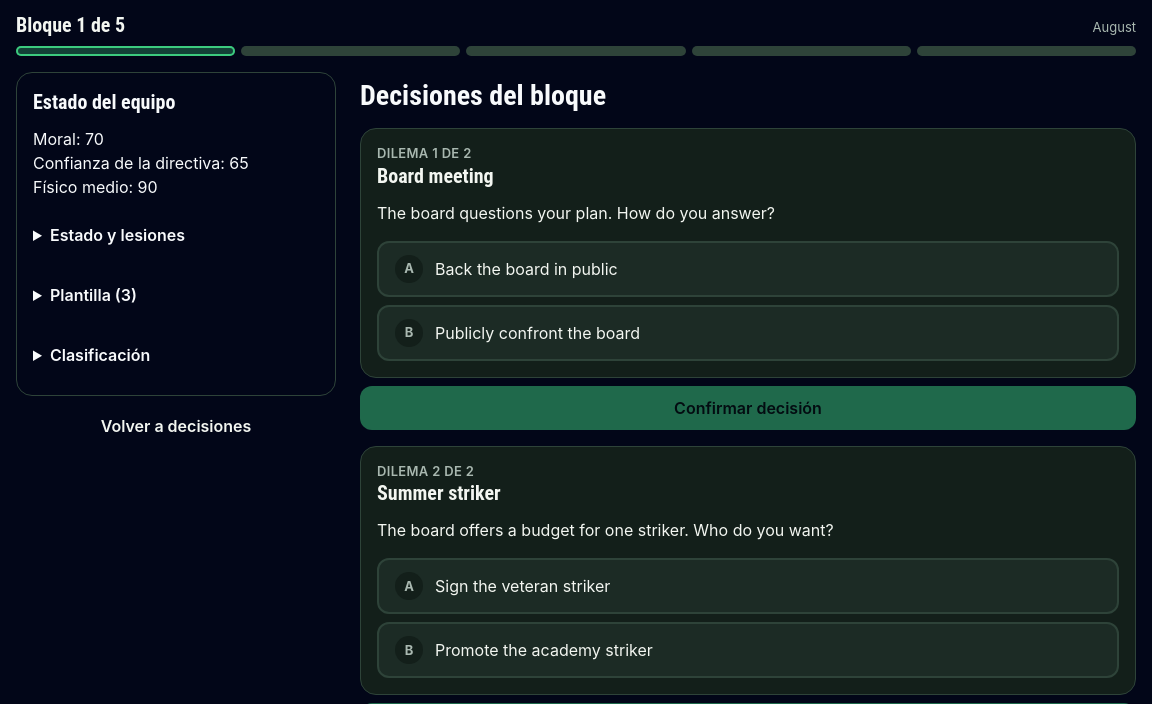
RunLoop › retries only the uncertain decision with the same Idempotency-Key and preserves earlier confirmations
Expected: the heading "Board meeting" is shown, [377,164,494,188]
Click the button "A Back the board in public": (526, 269) [377,241,1119,297]
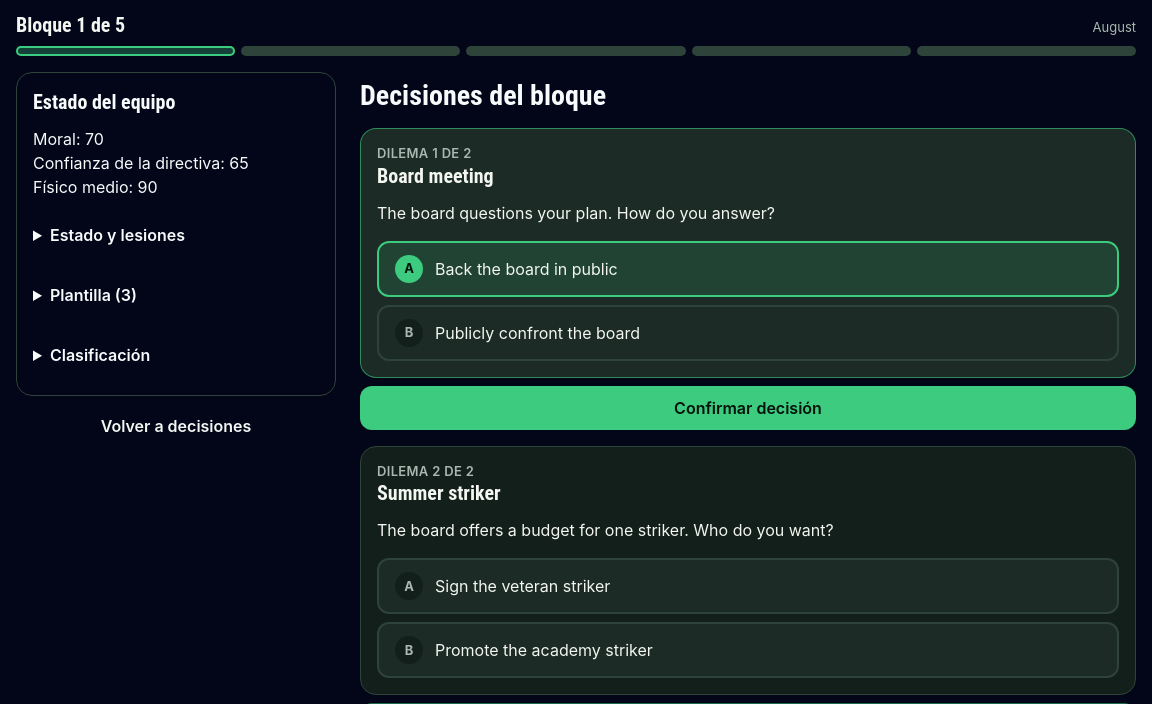
Click the button with aria-label "Confirmar: Board meeting": (748, 408) [360,386,1136,430]
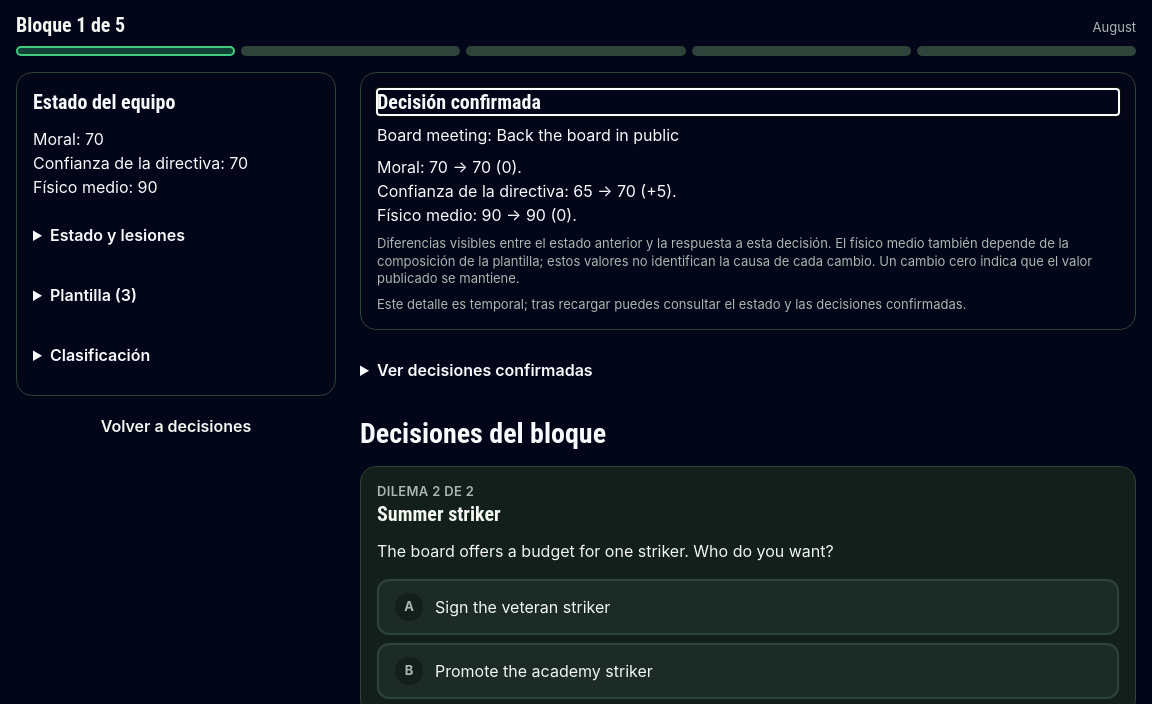
Expected: the heading "Decisión confirmada" is shown, [377,90,541,114]
Click the button "A Sign the veteran striker": (523, 607) [377,579,1119,635]
(page scrolled)
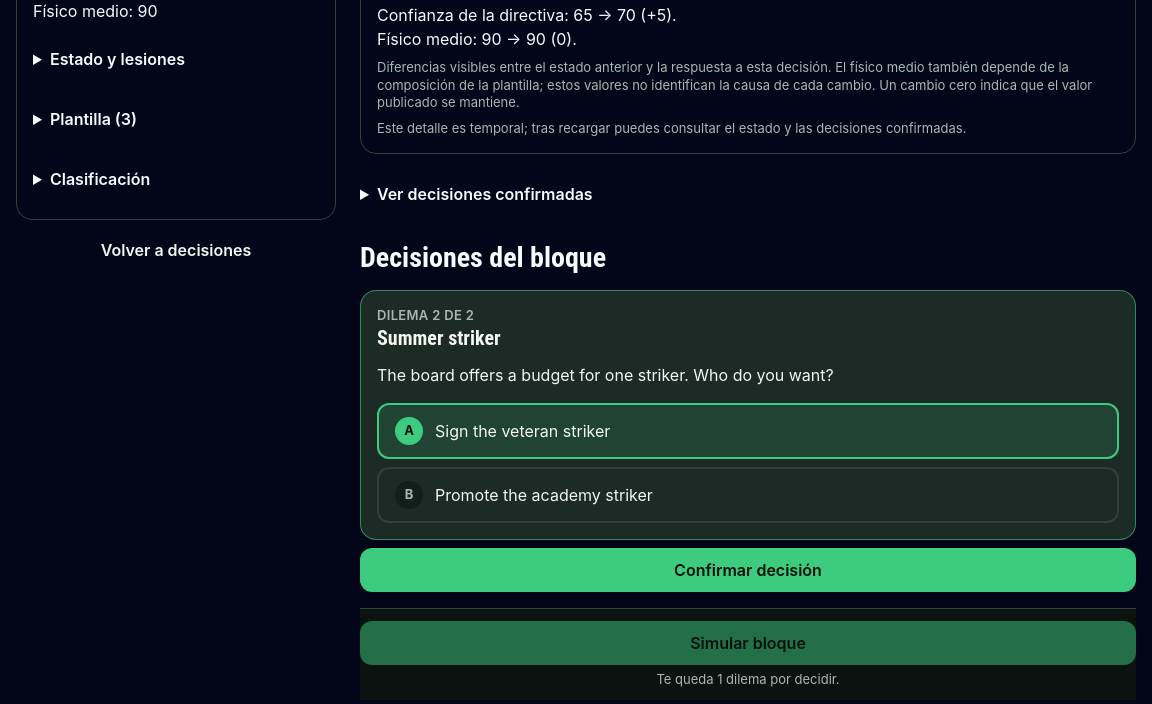
Click the button "Confirmar decisión": (748, 570) [360,548,1136,592]
(page scrolled)
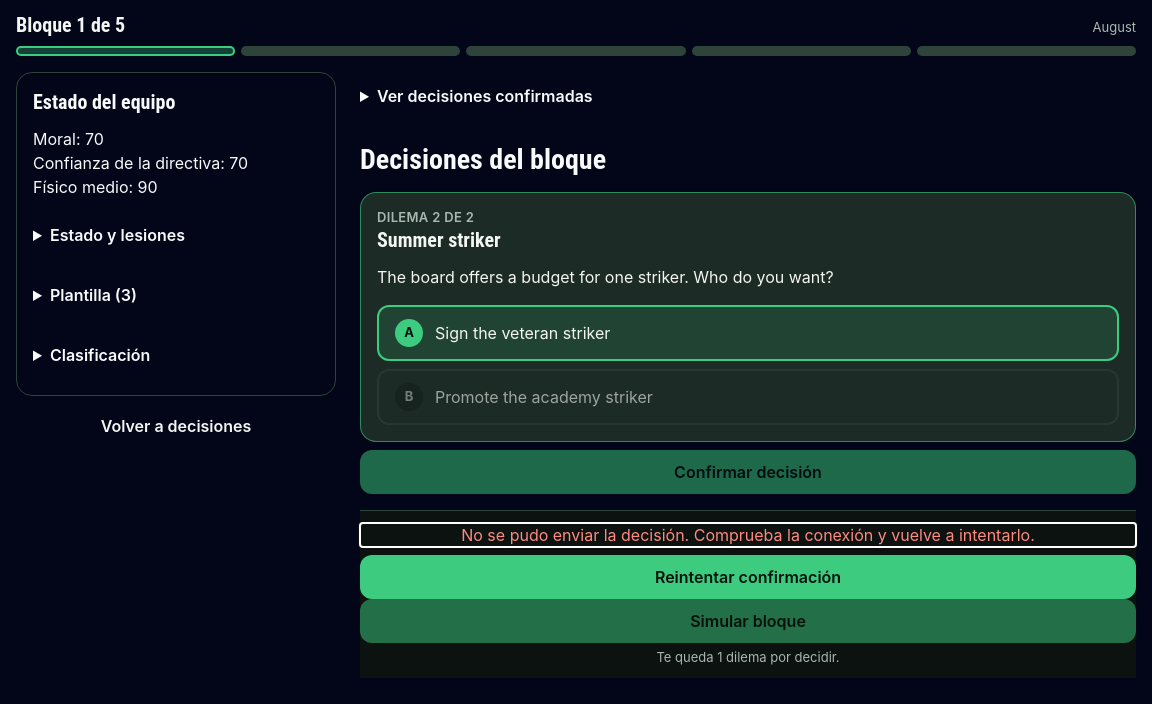
Expected: the button "Simular bloque" is disabled, [360,599,1136,643]
Expected: the button "A Sign the veteran striker" is disabled, [377,305,1119,361]
Click the button "Reintentar confirmación": (748, 577) [360,555,1136,599]
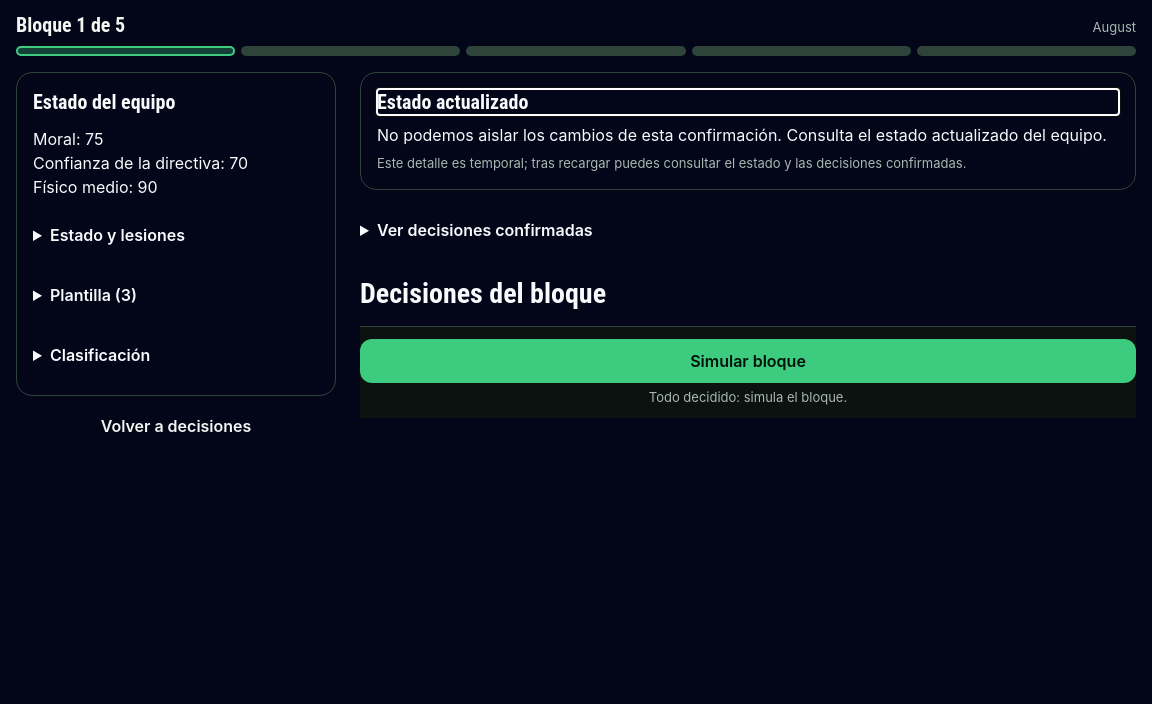
Expected: the list item "Moral: 70 → 70 (0)." is not shown
Expected: the heading "Estado actualizado" is shown, [377,90,528,114]
Expected: the button "Simular bloque" is enabled, [360,339,1136,383]
